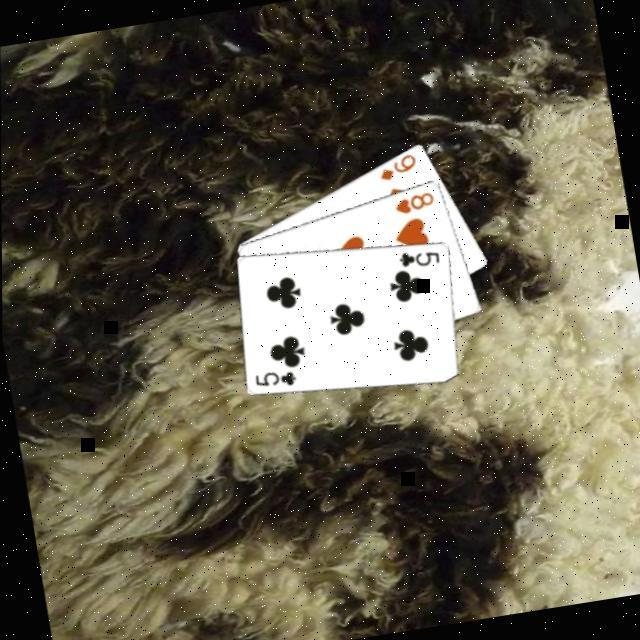5C: (396, 242, 445, 272), (251, 363, 300, 392)
8H: (390, 186, 438, 217)
9D: (375, 149, 422, 183)
